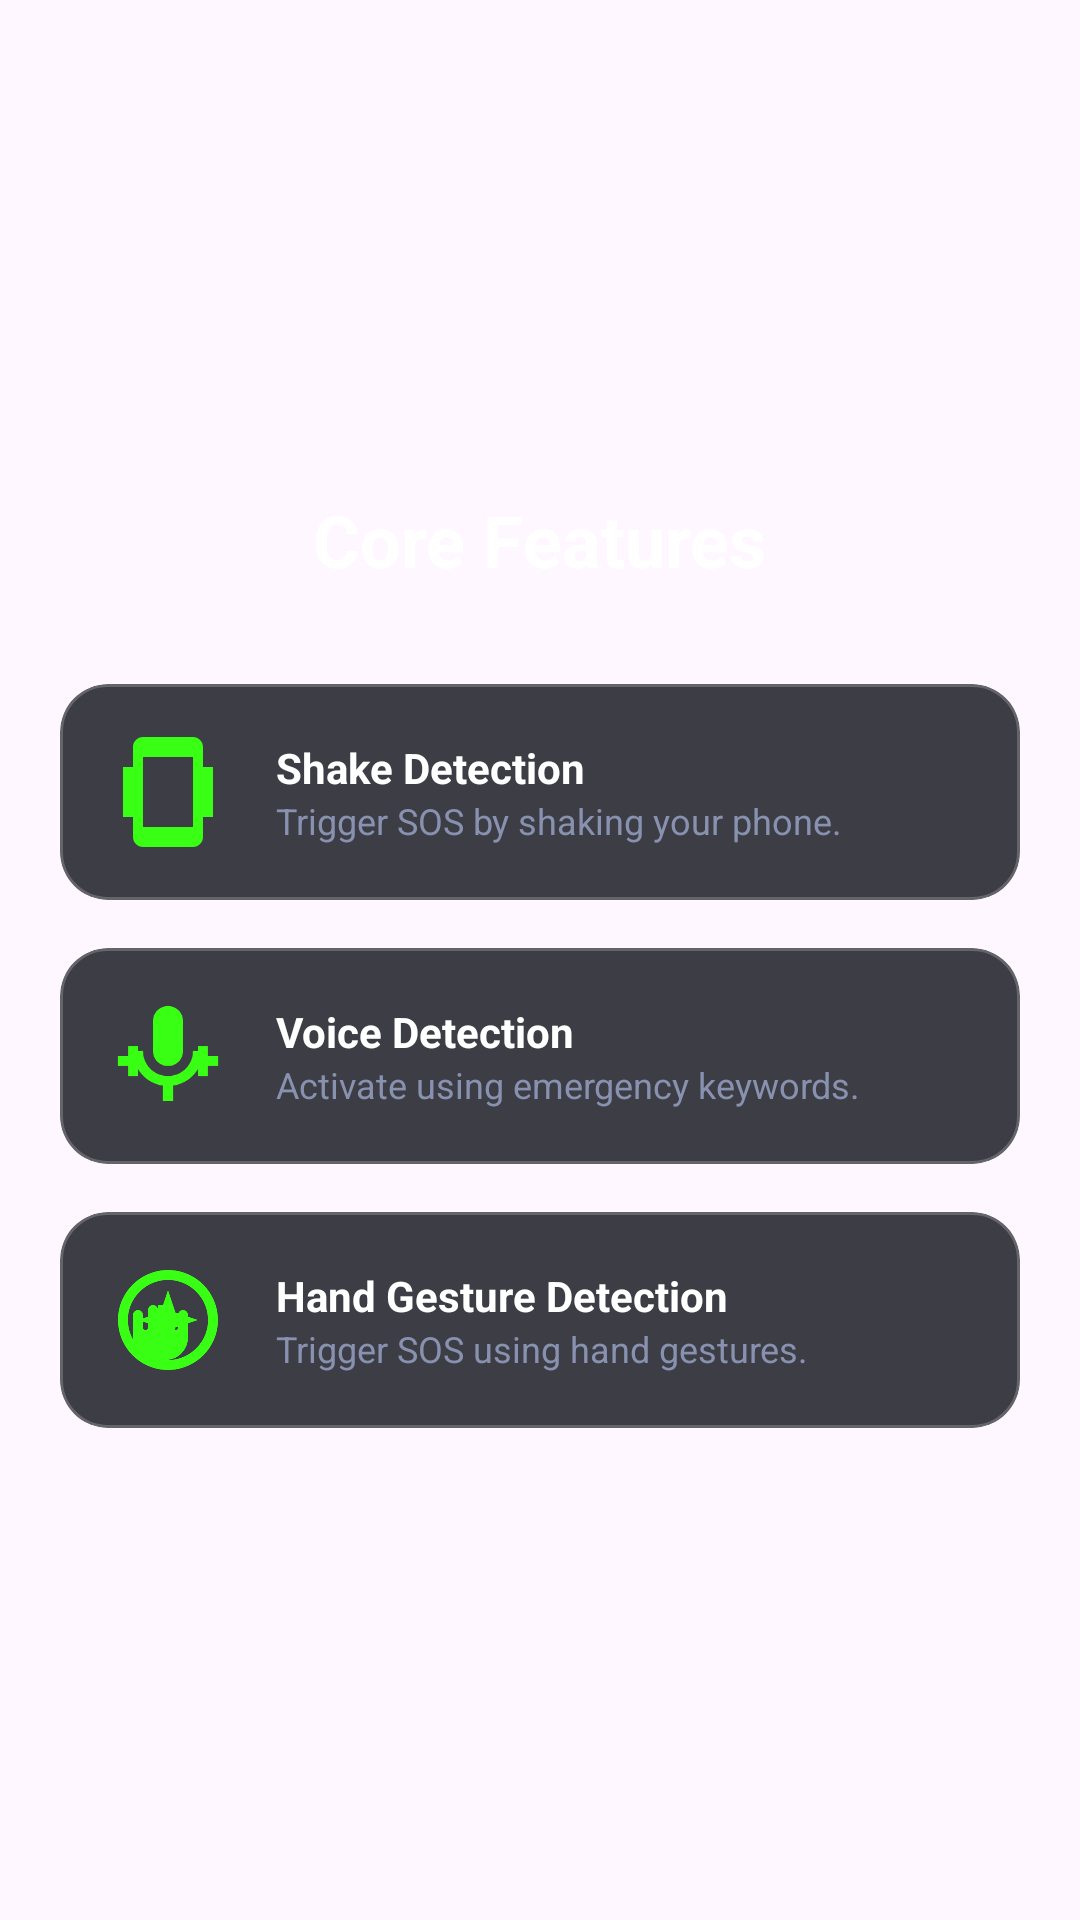

Named icons in this screenshot (1080px x 1920px) and their bounding boxes, (x1, y1, x2, y2):
sensor audio: (118, 1006, 218, 1101)
sensor shake: (123, 737, 213, 847)
sensor sign: (118, 1270, 218, 1370)
